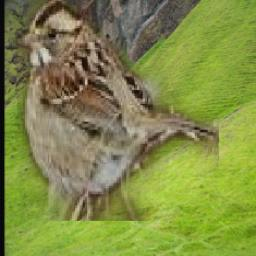Sparrow: (16, 0, 220, 221)
